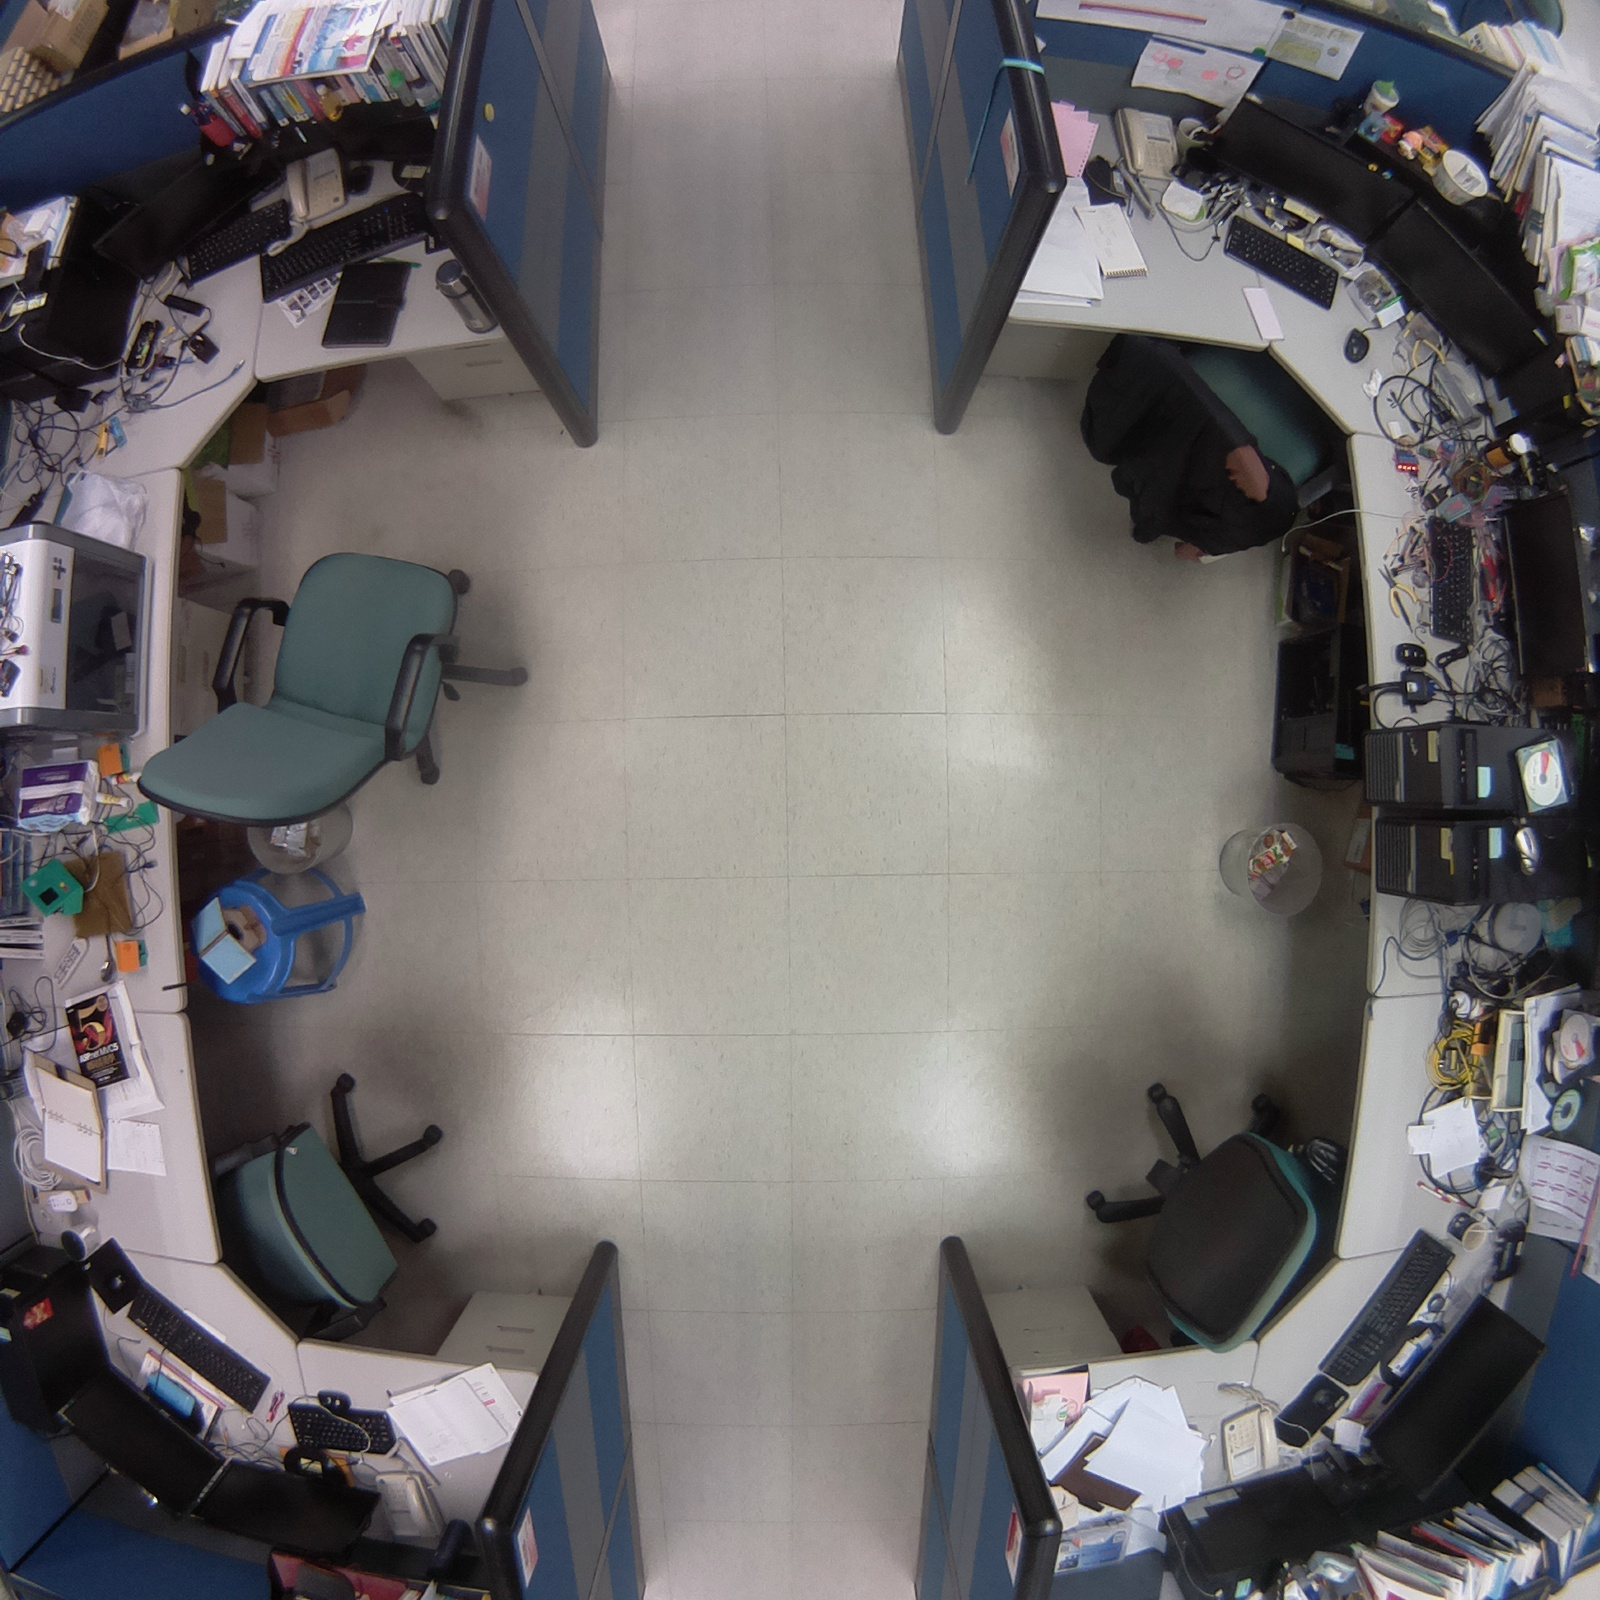chair: (123, 530, 538, 842), (1062, 1067, 1361, 1367), (190, 1058, 466, 1338), (1073, 303, 1349, 573)
